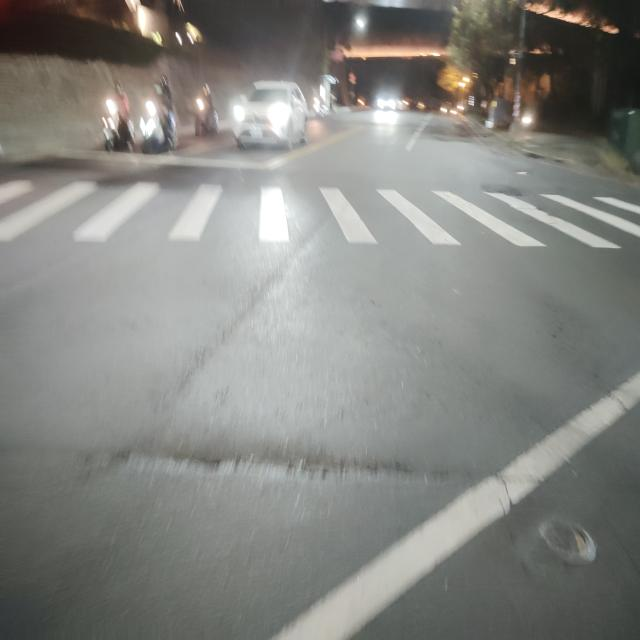zebra_crossing: (33, 94, 38, 272)
